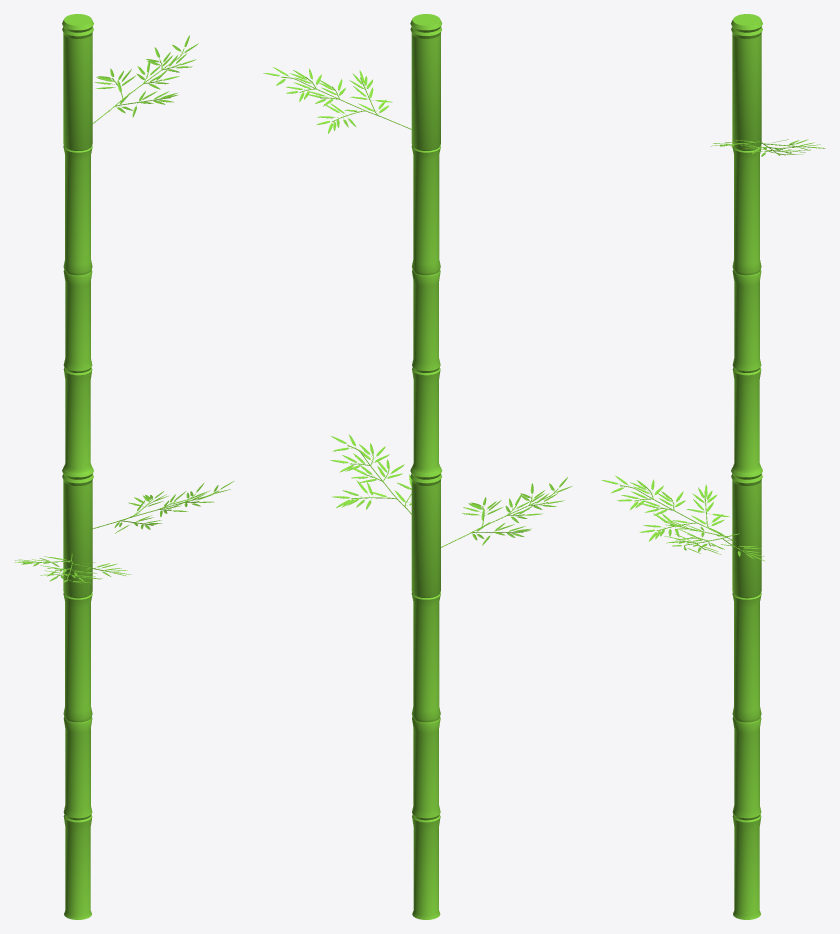
Rendered from deanamu2.fbx.
3 views of the same model, side by side, from view 1: azimuth 30°, elevation 25°; view 2: azimuth 150°, elevation 25°; view 3: azimuth 270°, elevation 25° (orthographic).
Parts seen in each view (by area): view 1: Cylinder.001; view 2: Cylinder.001; view 3: Cylinder.001.
Boxes of the visible parts, x1,y1,x2,y2 form: Cylinder.001: (14, 14, 233, 919); Cylinder.001: (263, 14, 572, 919); Cylinder.001: (601, 14, 825, 919).
Size of the model in its own units: 121 by 466 by 106.
